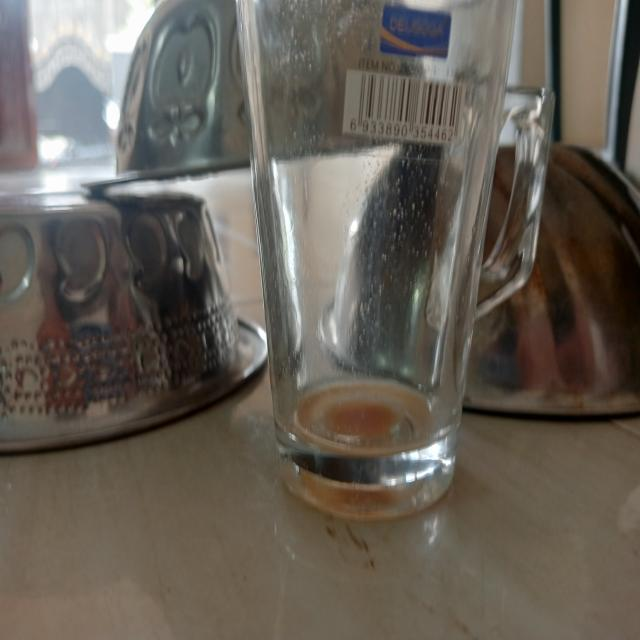glass-VX4N: (237, 0, 527, 462)
